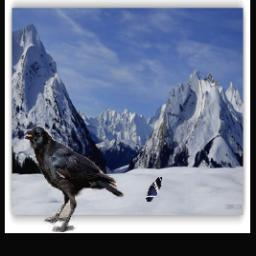Crow: (24, 126, 124, 233), (146, 177, 163, 202)
